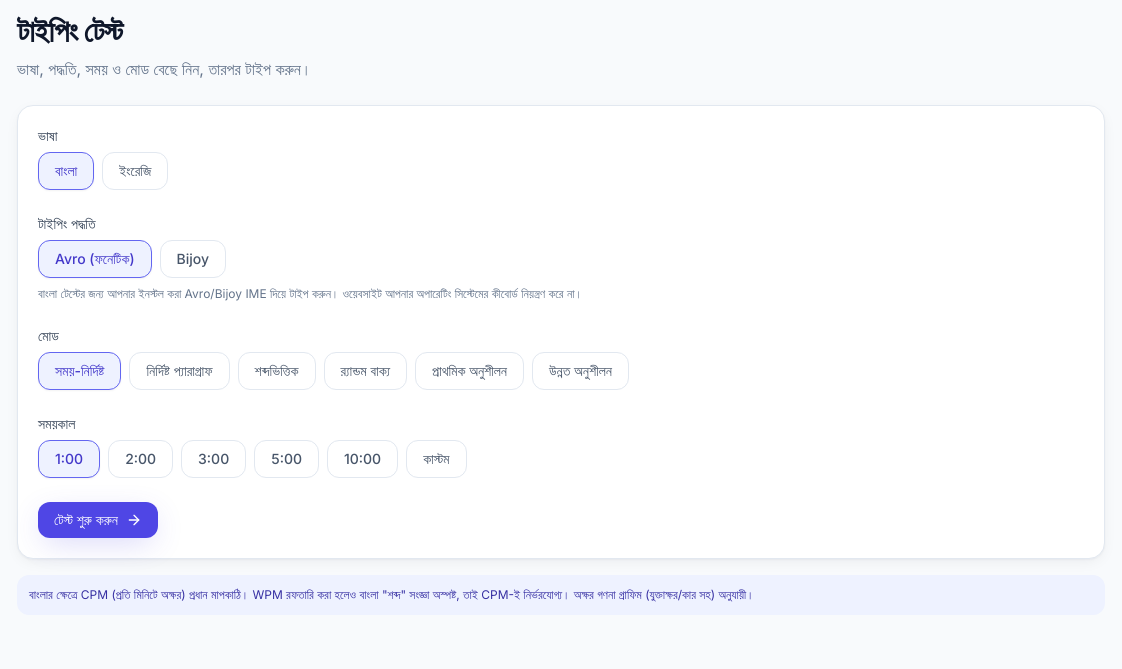
Test: TypingTest configuration › clamps a custom duration of negative to a safe 1-minute test
The width and height of the screenshot is (1122, 669).
Click the radio button labelled "কাস্টম".
click(436, 459)  # box [406,440,466,478]
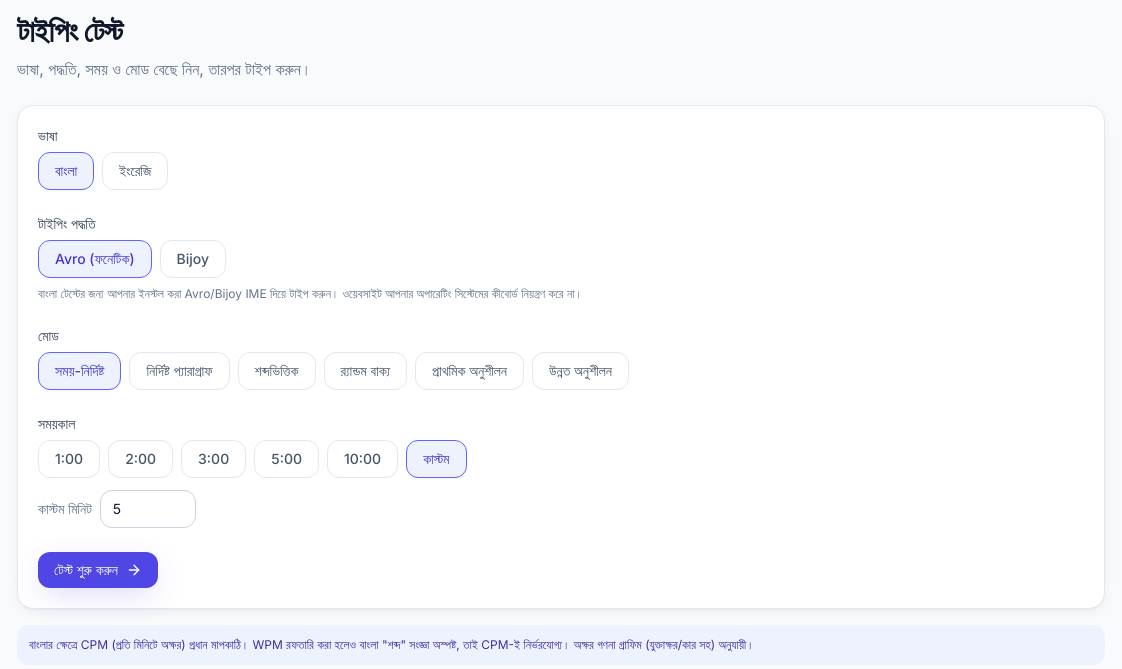
Replace the text in the number field labelled "কাস্টম মিনিট" with "-5" at [148, 509], box [100,490,196,528]
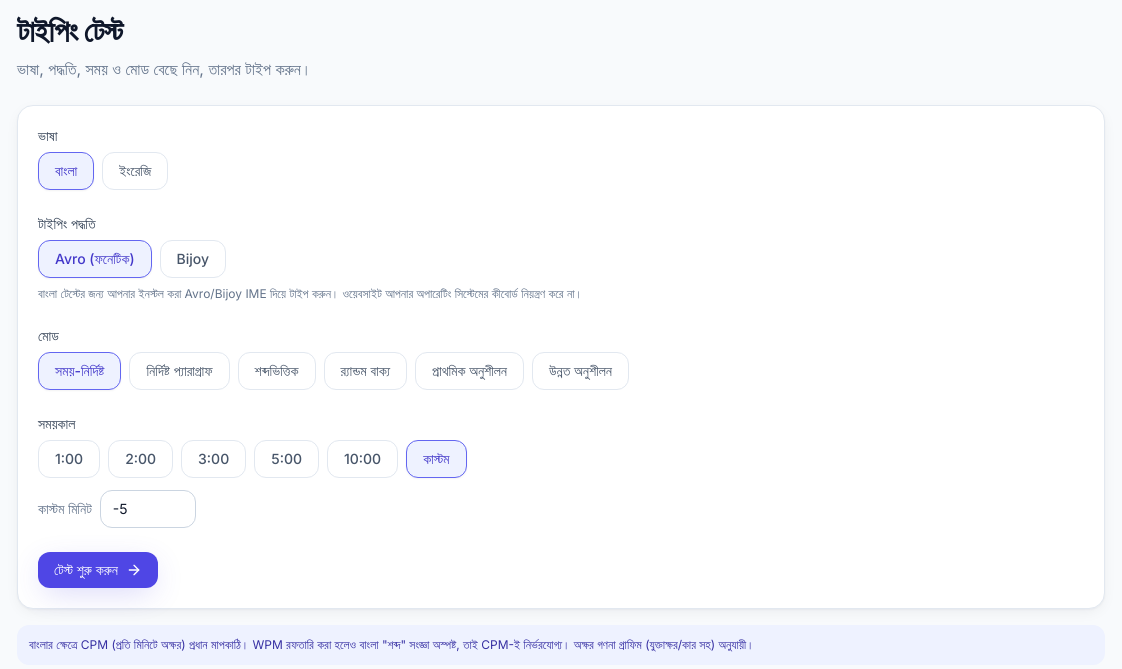
Click the button "টেস্ট শুরু করুন".
click(98, 570)  # box [38,552,158,588]
Wait 61200 ms
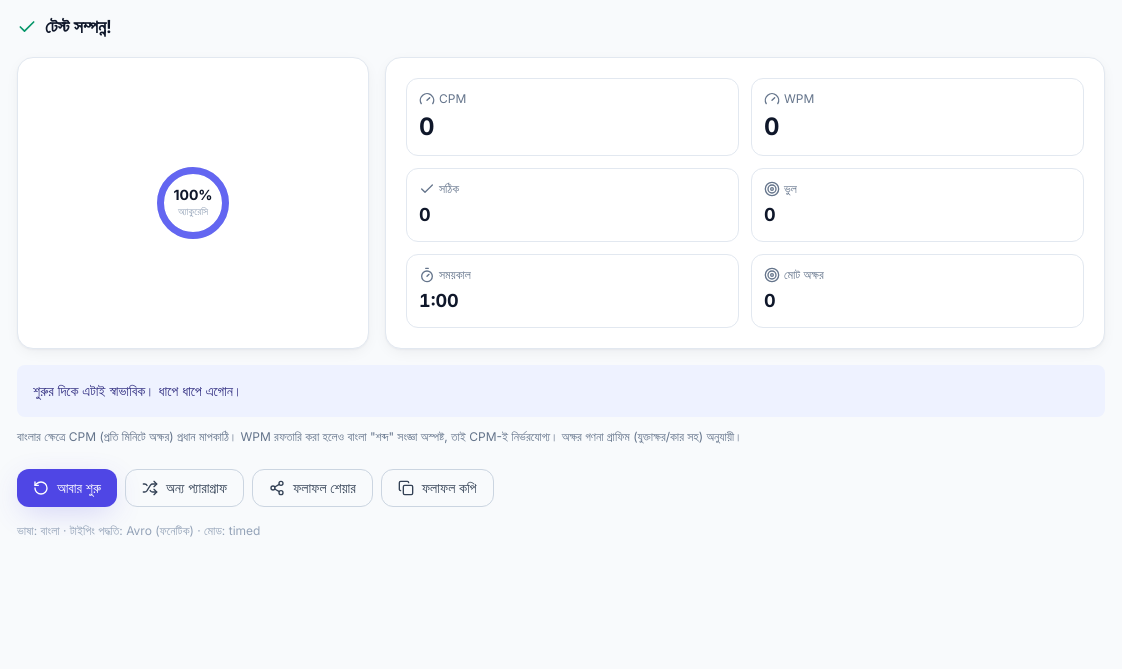
Result: the text "টেস্ট সম্পন্ন!" is shown at [17,16,112,37]
